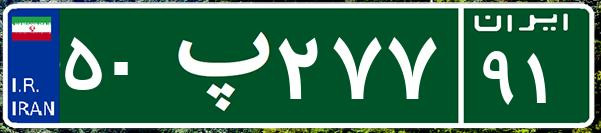0: (110, 28, 158, 105)
1: (525, 38, 570, 115)
2: (273, 28, 330, 110)
5: (57, 26, 110, 107)
7: (385, 28, 445, 110), (330, 28, 385, 110)
9: (475, 38, 525, 113)
پ: (158, 15, 273, 115)
